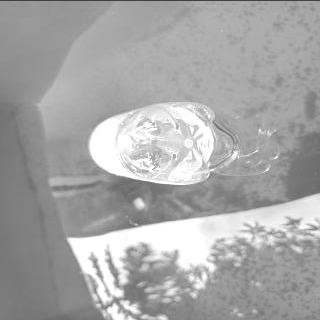bottle: (85, 97, 239, 187)
